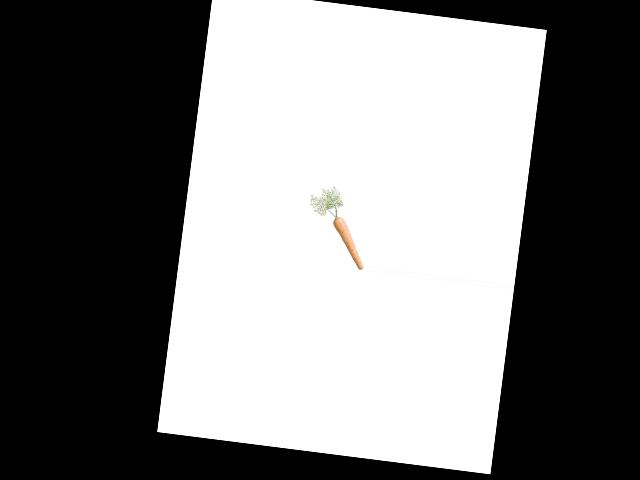carrot: (325, 210, 371, 272)
